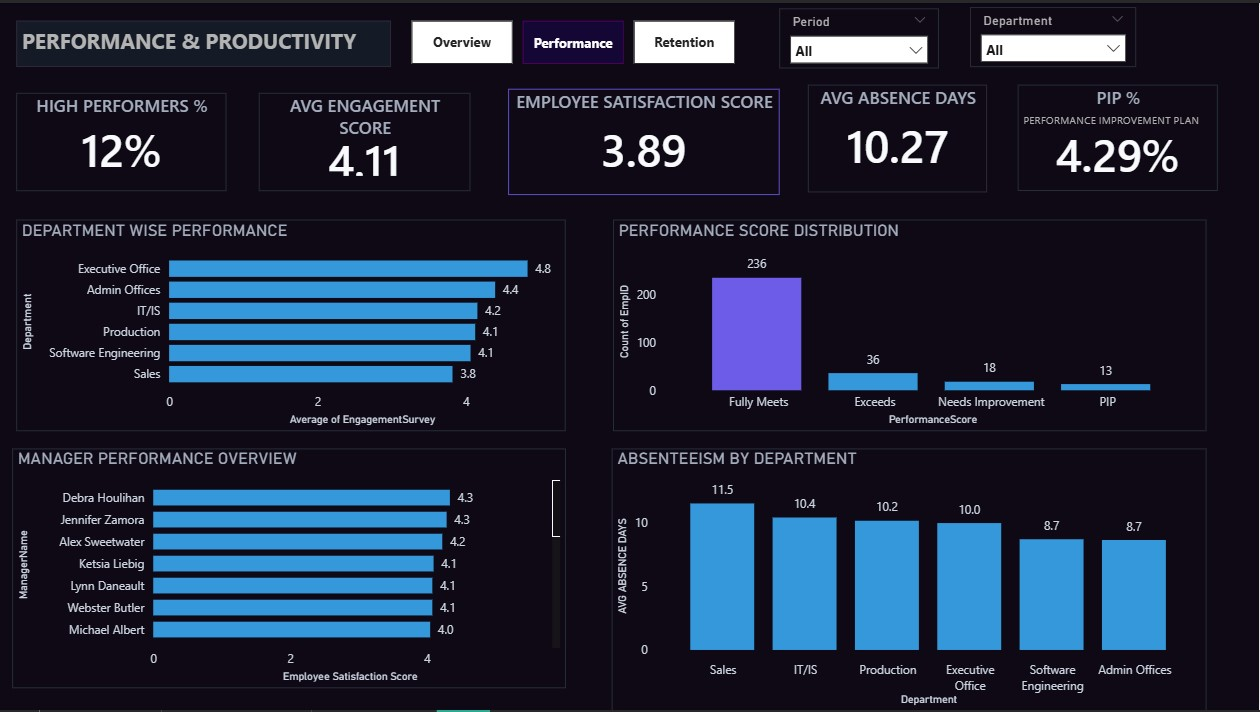

Layout of this report page (visuals, bound fields, positions):
{"tool":"powerbi","page":{"name":"Performance","canvas":[1280,720],"ordinal":1},"visuals":[{"type":"card","title":"HIGH PERFORMERS  %","fields":{"Values":["Worksheet.High Performers %"]},"box":[16.4,91.1,213.7,100.1],"z":0},{"type":"card","title":"AVG ENGAGEMENT SCORE","fields":{"Values":["Worksheet.Avg Engagement Score"]},"box":[263.3,91.4,214.8,99.8],"z":1000},{"type":"card","title":"EMPLOYEE SATISFACTION SCORE","fields":{"Values":["Worksheet.Employee Satisfaction Score"]},"box":[516.8,87.3,275.7,108.1],"z":2000},{"type":"card","title":"AVG ABSENCE DAYS","fields":{"Values":["Worksheet.Absenteeism %"]},"box":[821.7,83.7,182.3,109.1],"z":3000},{"type":"columnChart","title":"PERFORMANCE SCORE DISTRIBUTION","fields":{"Category":["Worksheet.PerformanceScore"],"Y":["Count(Worksheet.EmpID)"]},"box":[623,219.6,603.6,215.1],"z":4000},{"type":"clusteredBarChart","title":"DEPARTMENT WISE PERFORMANCE","fields":{"Category":["Worksheet.Department"],"Y":["Avg(Worksheet.EngagementSurvey)"]},"box":[16.4,219.6,558.8,215.1],"z":5000},{"type":"textbox","box":[16.6,18,381,47.1],"z":6000},{"type":"slicer","fields":{"Values":["Worksheet.DateofHire.Variation.Date Hierarchy.Year"]},"box":[792.5,5.5,162.1,61],"z":7000},{"type":"slicer","fields":{"Values":["Worksheet.Department"]},"box":[986.5,4.2,169,61],"z":8000},{"type":"columnChart","title":"ABSENTEEISM BY DEPARTMENT","fields":{"Category":["Worksheet.Department"],"Y":["Worksheet.AVG ABSENCE DAYS"]},"box":[621.5,452.7,605.1,267.4],"z":11000},{"type":"barChart","title":"MANAGER PERFORMANCE OVERVIEW","fields":{"Category":["Worksheet.ManagerName"],"Y":["Worksheet.Employee Satisfaction Score"]},"box":[12,452.7,563.3,243.5],"z":12000},{"type":"card","title":"PIP %","fields":{"Values":["Worksheet.PIP %"]},"box":[1035.4,83.7,203.2,107.6],"z":12001},{"type":"pageNavigator","box":[418.4,18,329.8,44.3],"z":12002}]}

Visuals, with their boxes in screenshot pixels (x1, y1, x2, y2), scaled from the page's 1280x720 canvas onto the 1260x712 screenshot:
"HIGH PERFORMERS  %" card: detection(16, 90, 227, 189)
"AVG ENGAGEMENT SCORE" card: detection(259, 90, 471, 189)
"EMPLOYEE SATISFACTION SCORE" card: detection(509, 86, 780, 193)
"AVG ABSENCE DAYS" card: detection(809, 83, 988, 191)
"PERFORMANCE SCORE DISTRIBUTION" columnChart: detection(613, 217, 1207, 430)
"DEPARTMENT WISE PERFORMANCE" clusteredBarChart: detection(16, 217, 566, 430)
textbox: detection(16, 18, 391, 64)
slicer - Worksheet.DateofHire.Variation.Date Hierarchy.Year: detection(780, 5, 940, 66)
slicer - Worksheet.Department: detection(971, 4, 1137, 64)
"ABSENTEEISM BY DEPARTMENT" columnChart: detection(612, 448, 1207, 711)
"MANAGER PERFORMANCE OVERVIEW" barChart: detection(12, 448, 566, 688)
"PIP %" card: detection(1019, 83, 1219, 189)
pageNavigator: detection(412, 18, 737, 62)
